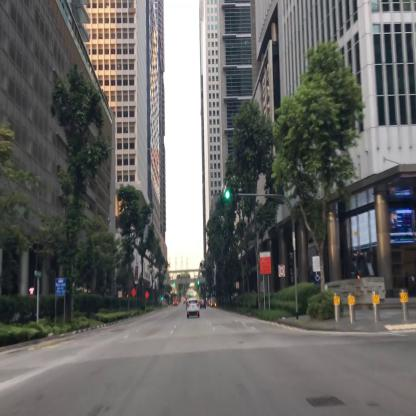green_traffic_light: (225, 191, 238, 199)
